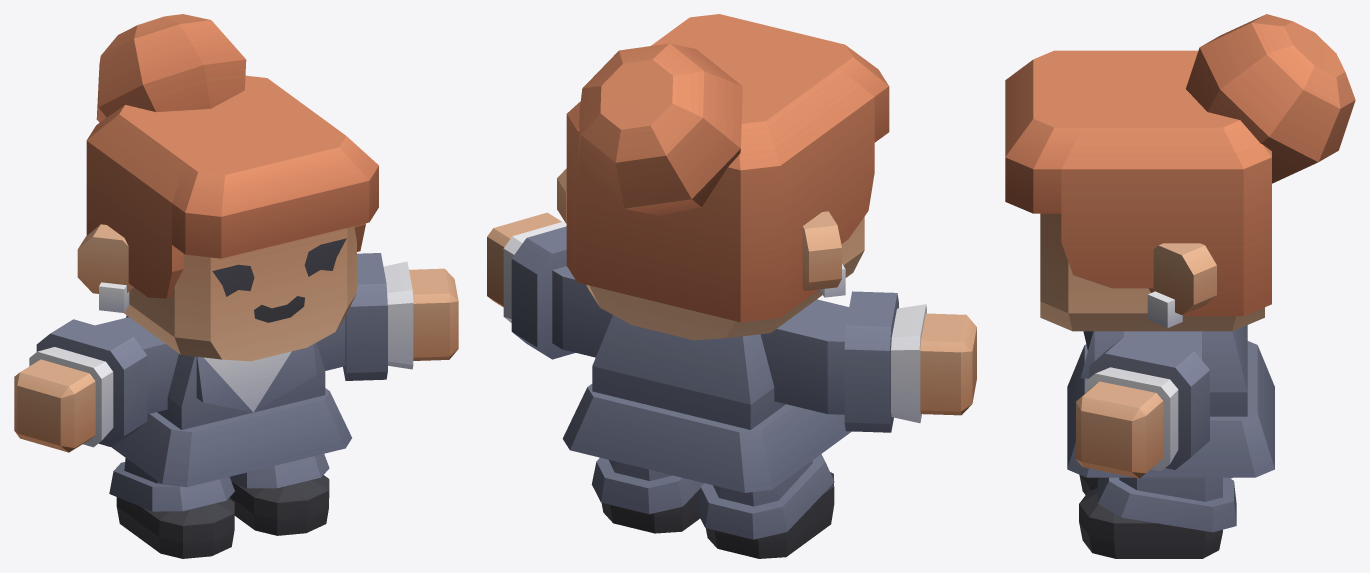
File: CustomerC.obj
3 views of the same model, side by side, from view 1: azimuth 30°, elevation 25°; view 2: azimuth 150°, elevation 25°; view 3: azimuth 270°, elevation 25° (orthographic). The views are drawn at different scales.
Visible parts, largest first — view 1: body-mesh; view 2: body-mesh; view 3: body-mesh.
Part boxes in pixels (<box>): body-mesh: <box>14,14,458,558</box>; body-mesh: <box>487,14,976,558</box>; body-mesh: <box>1005,14,1355,558</box>.
Bounding box in the file's own units: 0.7672 × 0.7755 × 0.4995.
1 material, 1 textured.
